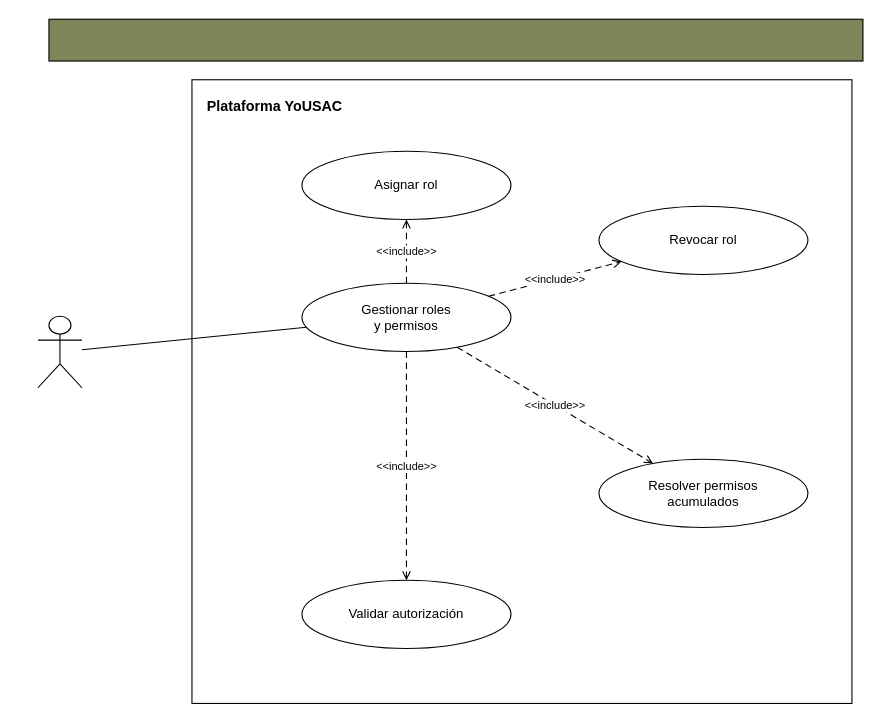
Image size: 882x723. Some labels were removed from this diagram. The shapes that lost their labels are listed below. From the top down, each one's centre as x and y in pixels, then its label:
At pixel 455 39: "Plataforma YoUSAC — CU-AP-02 — Gestionar roles y permisos".
At pixel 59 351: "Administrador".
